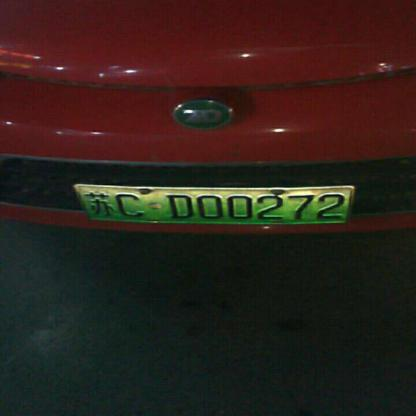lp: (73, 183, 353, 222)
